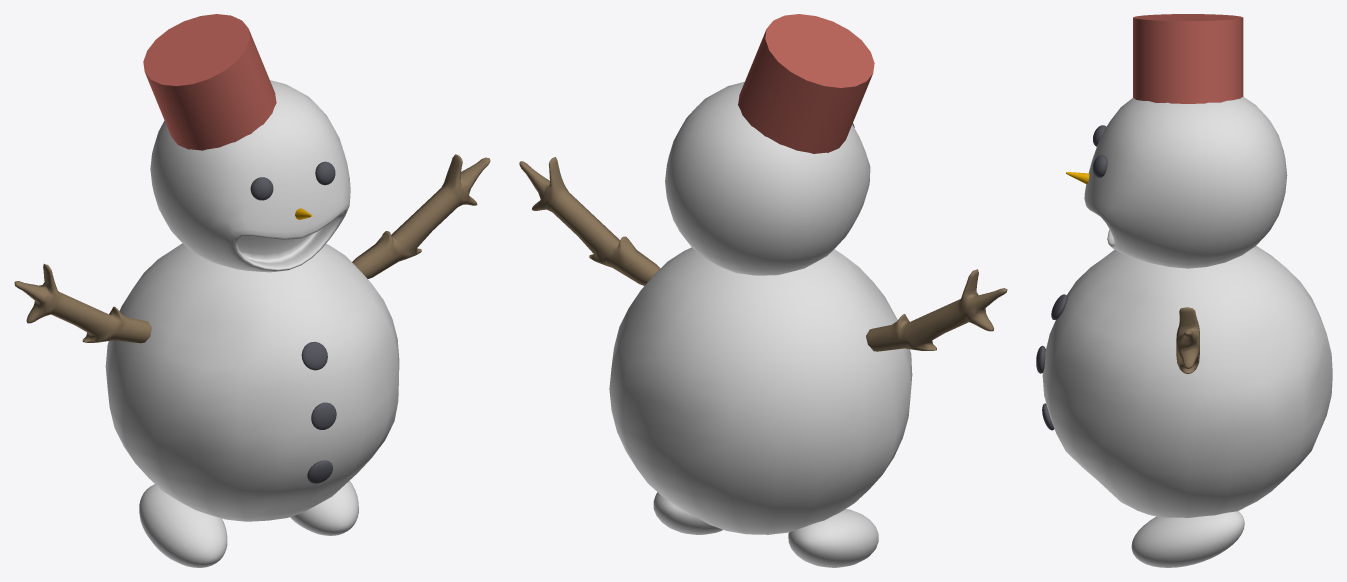
The model's file is Snowman2.fbx.
3 views of the same model, side by side, from view 1: azimuth 30°, elevation 25°; view 2: azimuth 150°, elevation 25°; view 3: azimuth 270°, elevation 25° (orthographic). The views are drawn at different scales.
Visible parts, largest first — view 1: pSphere3, pCube1, pCylinder2, pSphere5, pCube2, pCube3, pSphere4, pSphere6; view 2: pSphere3, pCube1, pCylinder2, pCube2, pCube3, pSphere5, pSphere4; view 3: pSphere3, pCube1, pCylinder2, pSphere4, pCube2.
Boxes of the visible parts, x1,y1,x2,y2 form: pSphere3: (105, 243, 399, 521); pCube1: (150, 80, 350, 272); pCylinder2: (143, 14, 276, 150); pSphere5: (139, 484, 227, 567); pCube2: (352, 154, 490, 278); pCube3: (14, 264, 151, 343); pSphere4: (290, 480, 358, 535); pSphere6: (301, 341, 327, 370); pSphere3: (609, 247, 912, 534); pCube1: (665, 82, 870, 275); pCylinder2: (738, 14, 874, 153); pCube2: (519, 157, 660, 285); pCube3: (866, 269, 1007, 351); pSphere5: (788, 509, 878, 567); pSphere4: (653, 492, 723, 534); pSphere3: (1042, 246, 1332, 517); pCube1: (1084, 97, 1287, 268); pCylinder2: (1133, 14, 1243, 103); pSphere4: (1131, 511, 1244, 567); pCube2: (1176, 307, 1199, 373).
Bounding box in the file's own units: 3.1 × 3.24 × 1.71.
